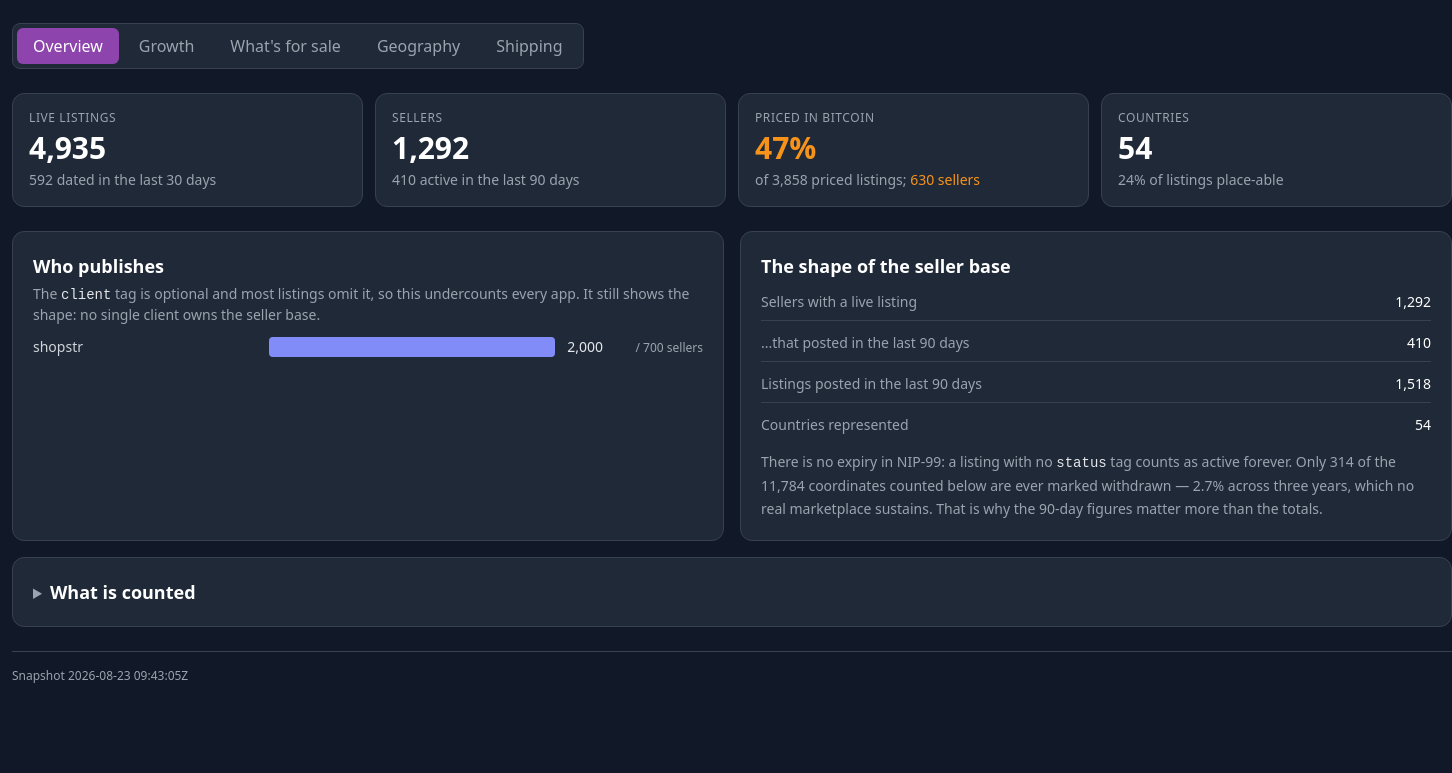
Test: /marketplaces page (DB-powered) › words the listings that cannot be placed plainly, with no first person and no method aside
Click the link with id "tab-geography" at (419, 46), box [377,35,460,57]
(page scrolled)
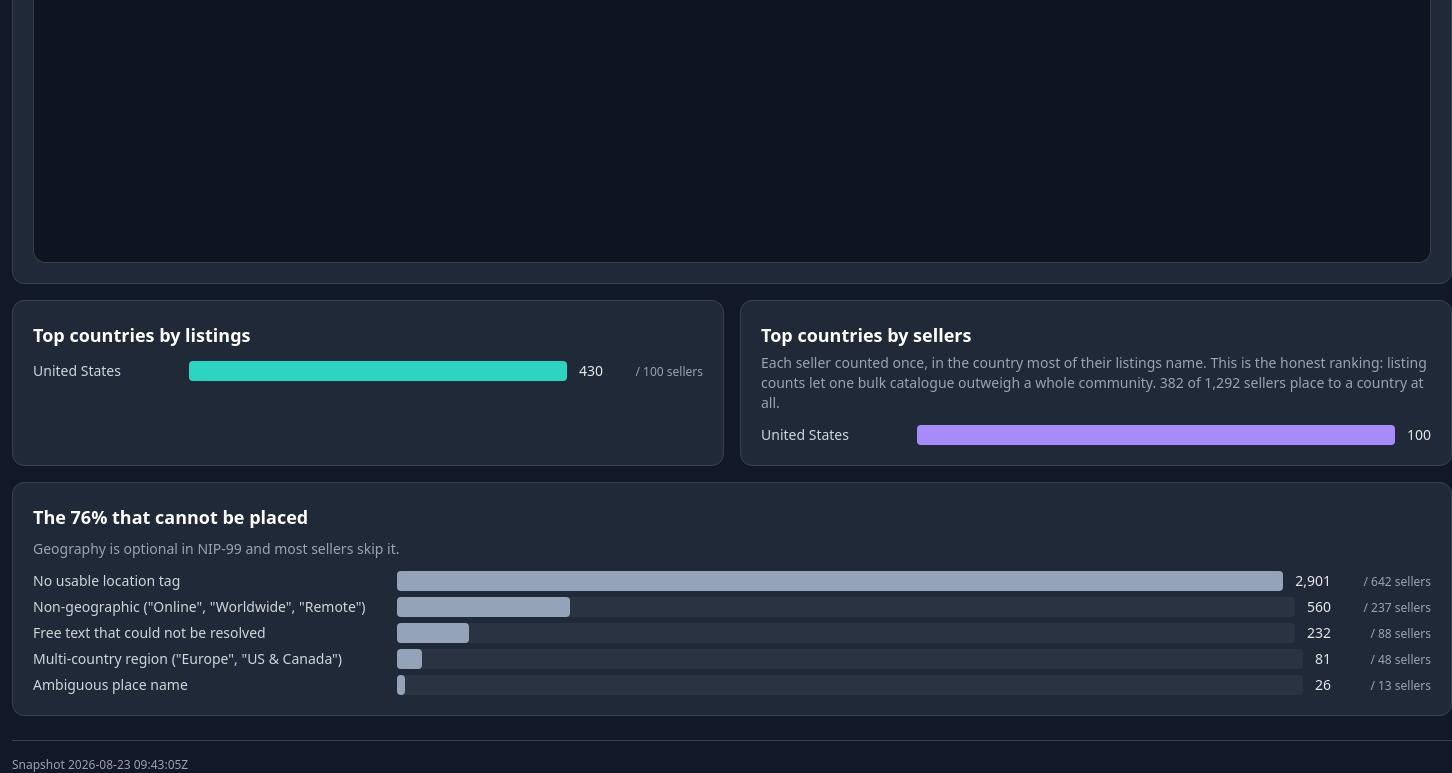
expect the element that starts with "The 76% that cannot be placed" shows "Free text that could not be resolved": met, box [33,623,266,642]
expect the text "Geography is optional in NIP-99 and most sellers skip it." is shown: met, box [33,539,400,558]
